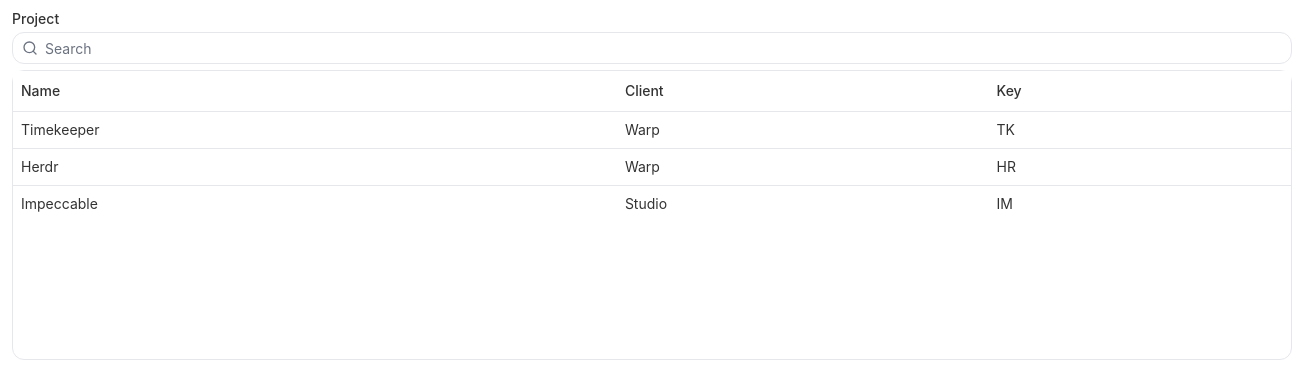
Test: ProjectPicker.Root › shows the empty state once nothing matches, in both layouts
The image size is (1304, 377).
Type "nothing matches this" into the field with placeholder "Search" at point(652, 48), box [12, 32, 1292, 64]
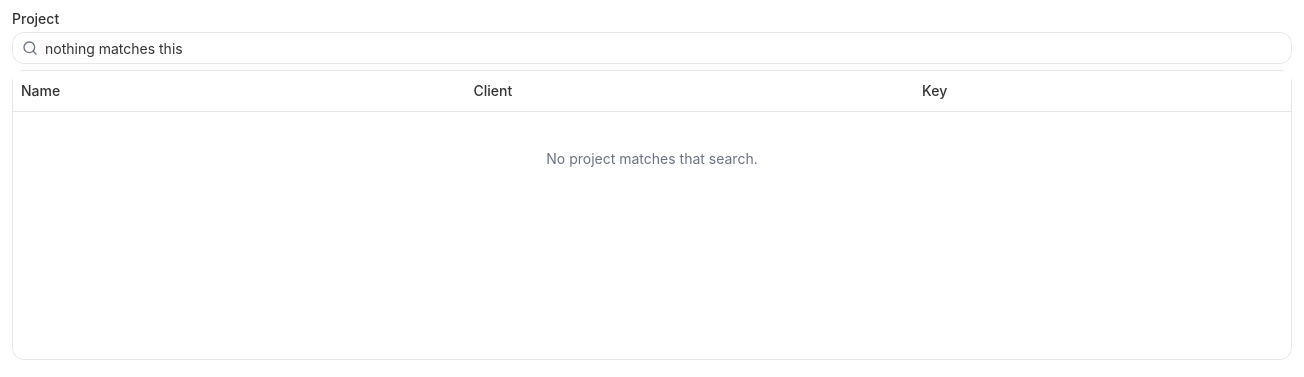
Result: the text "No project matches that search." is shown 2 times
